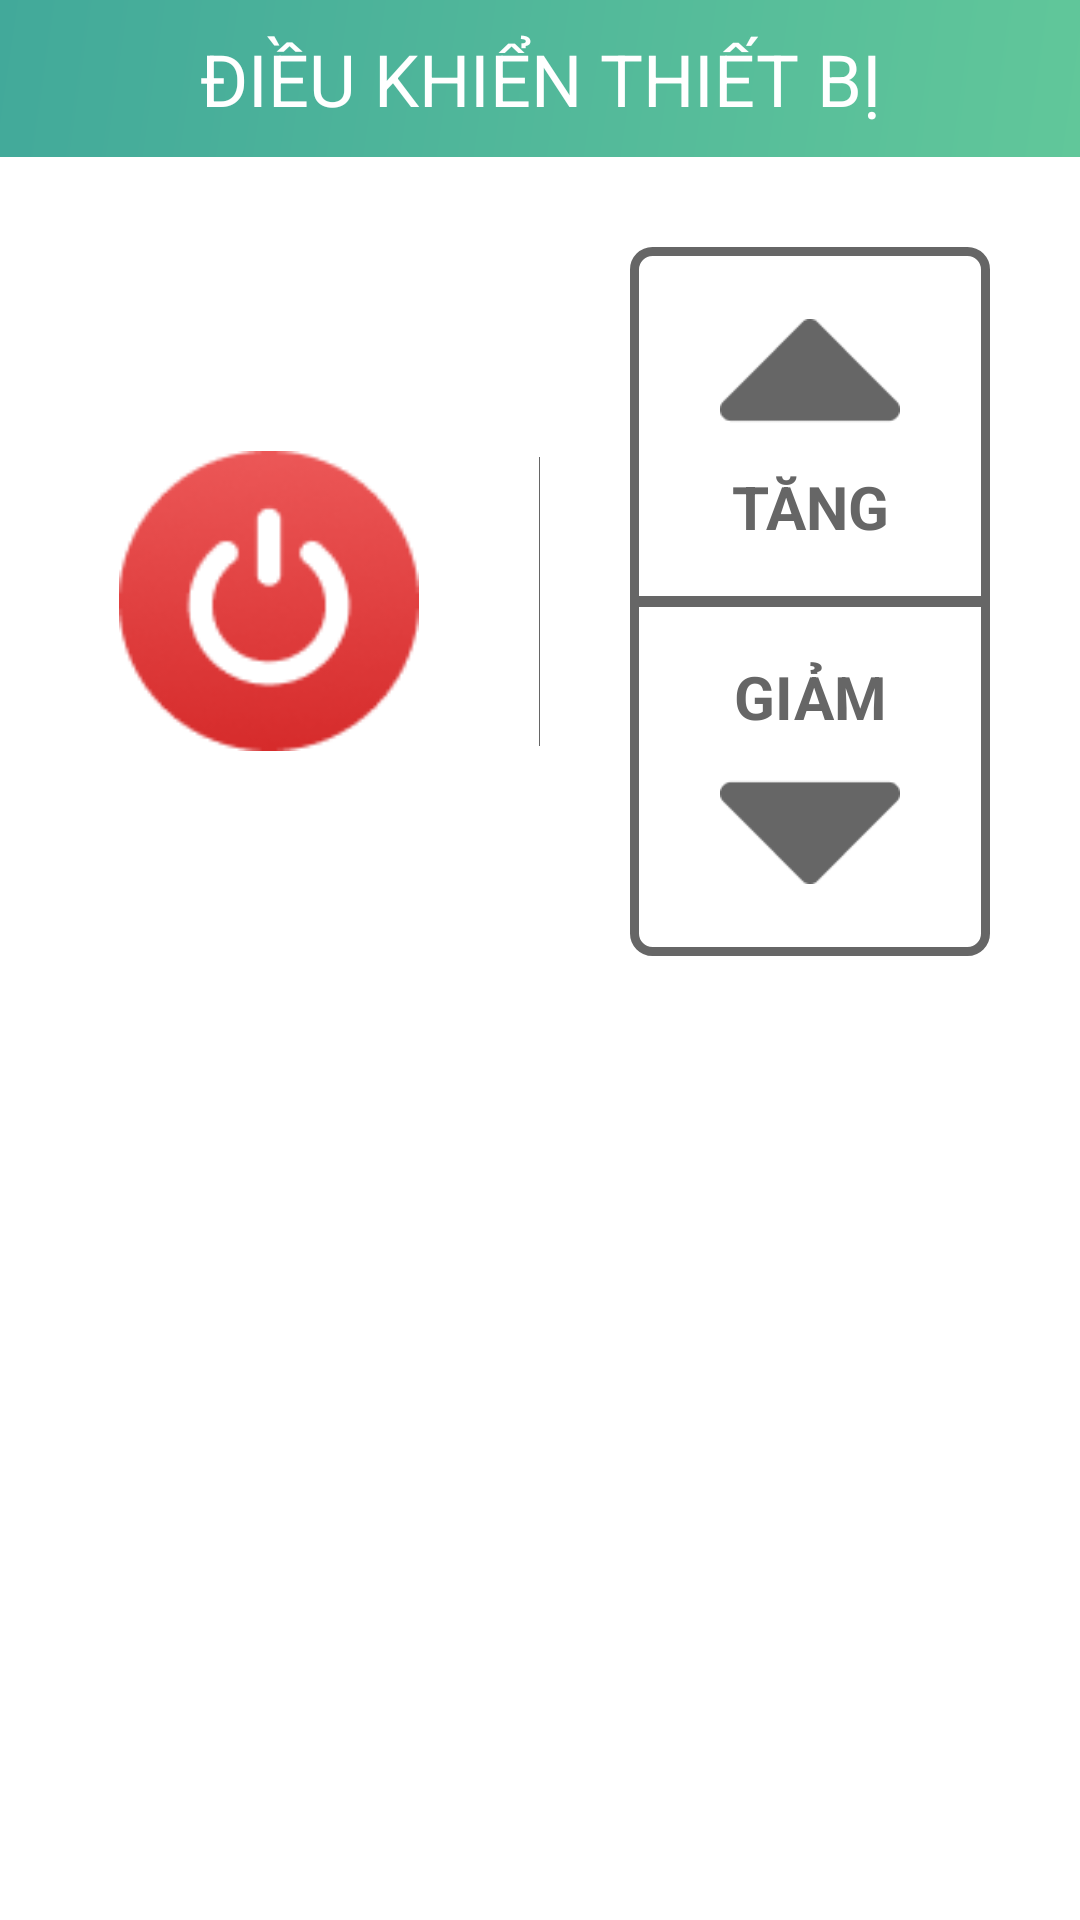

Named icons in this screenshot (1080w x 1920h) and their centers, point (x, y):
power: point (269, 601)
